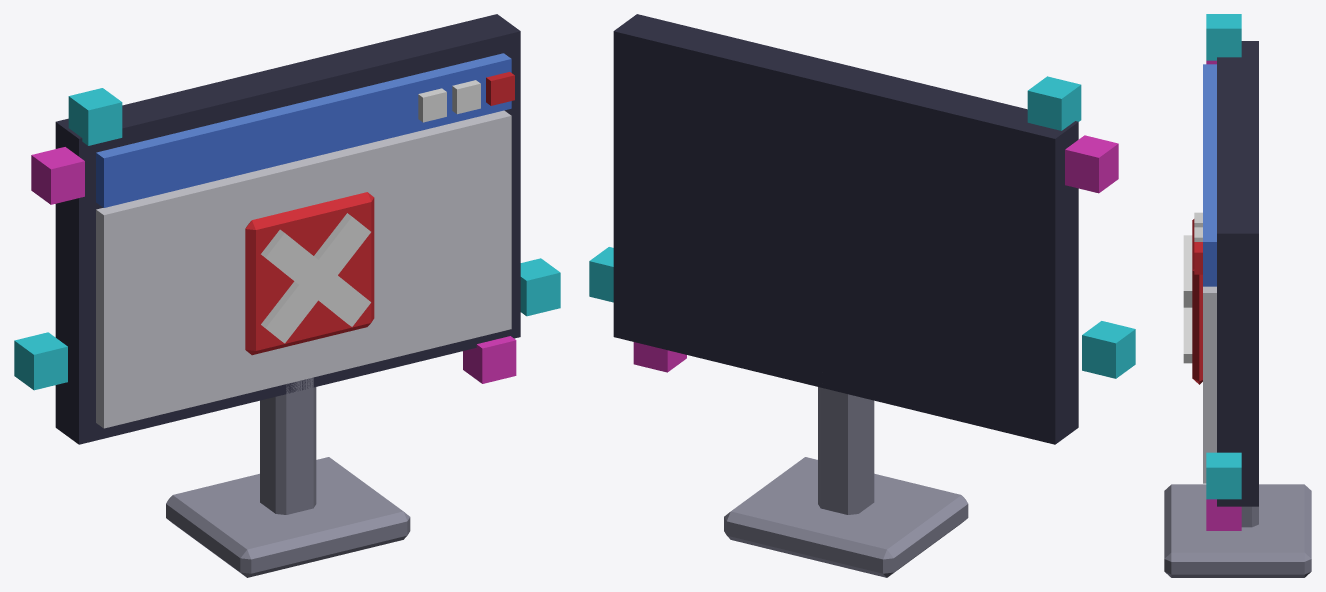
The model's file is habitat_prop_glitch.fbx.
3 renders of one model, left to right at view 1: azimuth 30°, elevation 25°; view 2: azimuth 150°, elevation 25°; view 3: azimuth 270°, elevation 25°, orthographic. The views are drawn at different scales.
Parts seen in each view (by area): view 1: habitat_prop_glitch; view 2: habitat_prop_glitch; view 3: habitat_prop_glitch.
Part boxes in pixels (<box>): habitat_prop_glitch: <box>14,14,560,577</box>; habitat_prop_glitch: <box>589,14,1135,577</box>; habitat_prop_glitch: <box>1164,14,1311,577</box>.
Size of the model in its own units: 1.55 by 1.37 by 0.42.
